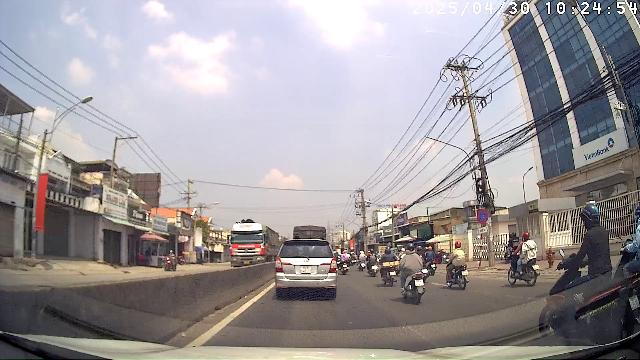130-cam-dung-va-do-xe: (477, 210, 488, 224)
